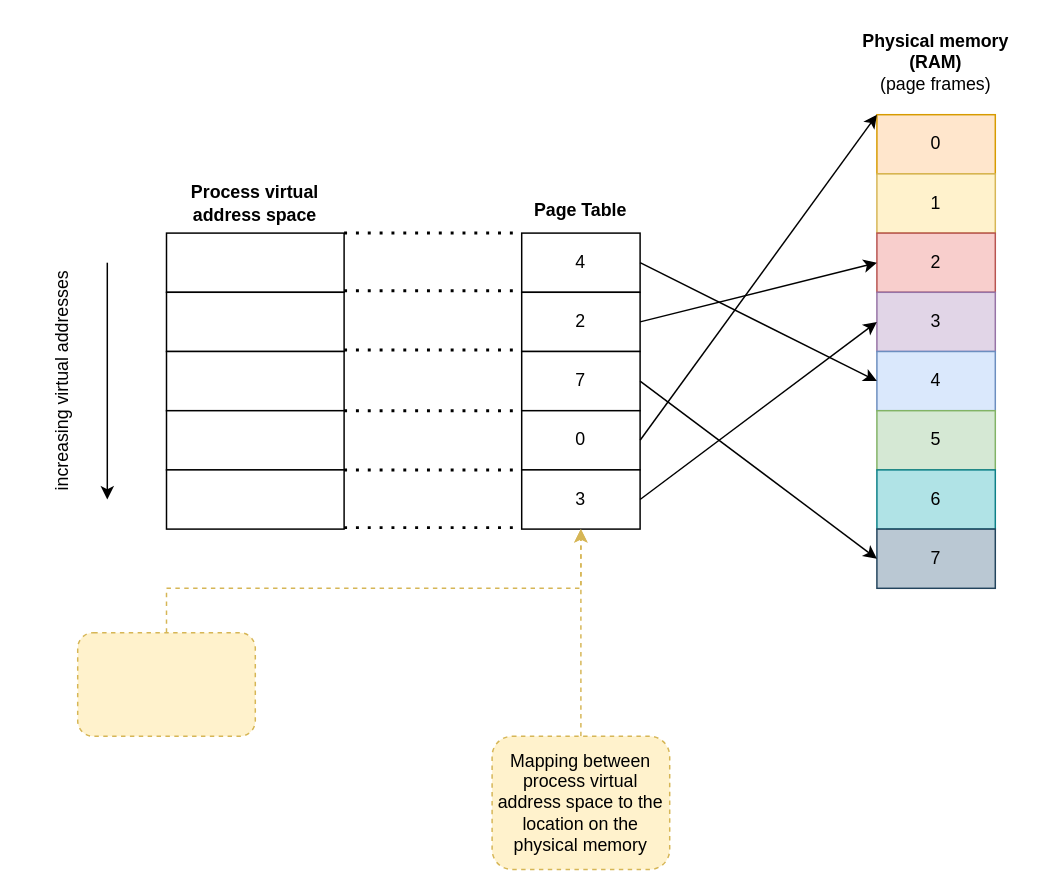
The diagram is 1042 pixels wide and 895 high, and some of its shapes have lost their labels. Each missing label, with the box of its shape:
kernel maintains a page table per process: (76, 631, 255, 736)
page 0: (165, 232, 344, 292)
page 1: (165, 291, 344, 352)
page 2: (165, 350, 344, 411)
page 3: (165, 409, 344, 470)
page 4: (165, 468, 344, 529)
